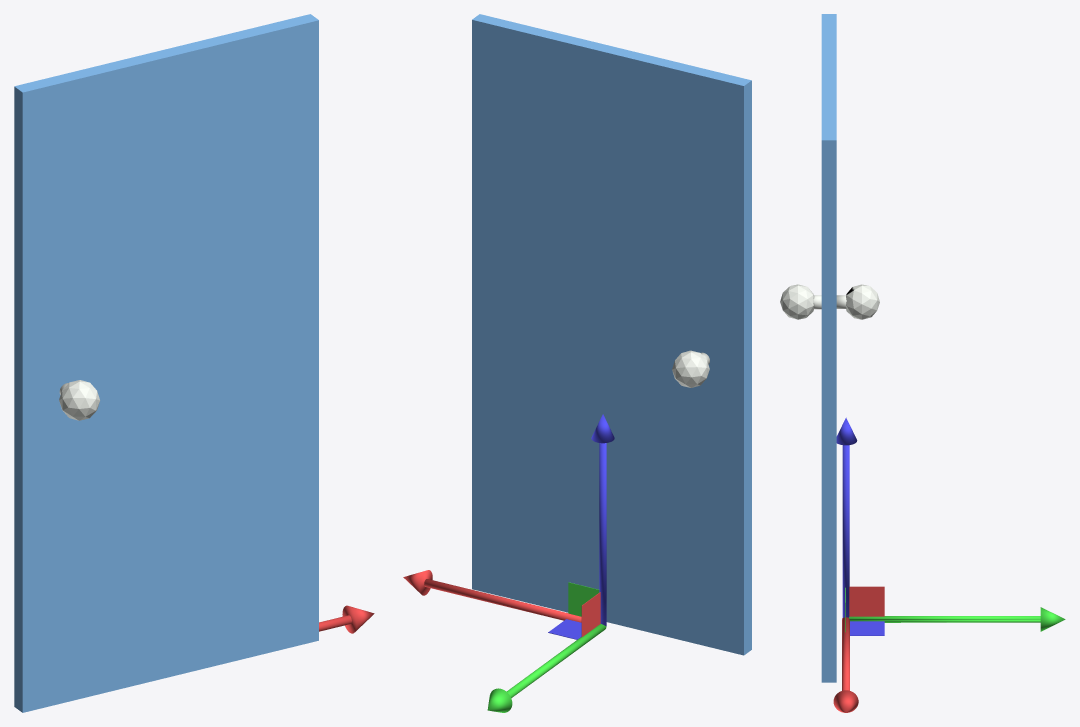
Rendered from door_flying.fbx.
The picture shows the model from 3 angles, left to right: view 1: azimuth 30°, elevation 25°; view 2: azimuth 150°, elevation 25°; view 3: azimuth 270°, elevation 25°; orthographic projection. The views are drawn at different scales.
Parts seen in each view (by area): view 1: mesh_DoorFlying, Cylinder.001; view 2: mesh_DoorFlying, Cylinder, Cylinder.001, Cylinder.002, Plane, Plane.001; view 3: mesh_DoorFlying, Cylinder, Cylinder.002, Plane.001, Cylinder.001, Plane.002.
Boxes of the visible parts, x1,y1,x2,y2 form: mesh_DoorFlying: (14,14,318,712); Cylinder.001: (319,605,374,633); mesh_DoorFlying: (472,14,751,655); Cylinder: (591,414,614,626); Cylinder.001: (403,570,581,622); Cylinder.002: (487,624,606,712); Plane: (568,582,599,616); Plane.001: (581,592,600,636); mesh_DoorFlying: (780,14,879,682); Cylinder: (836,417,857,617); Cylinder.002: (849,607,1065,631); Plane.001: (849,586,884,616); Cylinder.001: (833,617,858,712); Plane.002: (850,621,884,635).
Bounding box in the file's own units: 1.23 × 2.04 × 0.9555.
4 materials, 1 textured.
